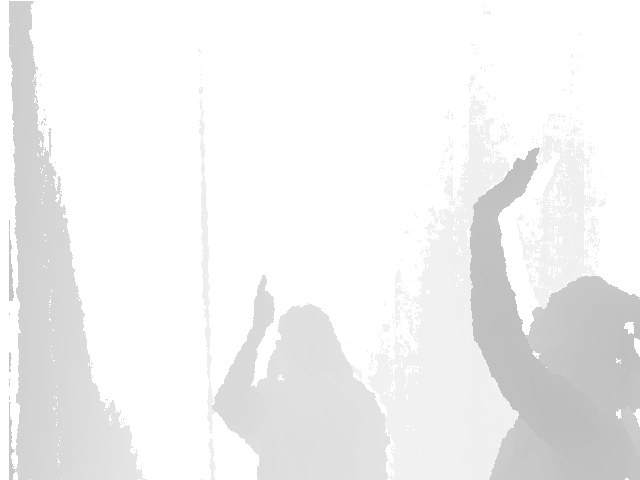hand: (469, 150, 539, 213)
head: (527, 275, 640, 377), (266, 305, 353, 379)
person: (468, 150, 640, 480), (208, 275, 393, 480)
